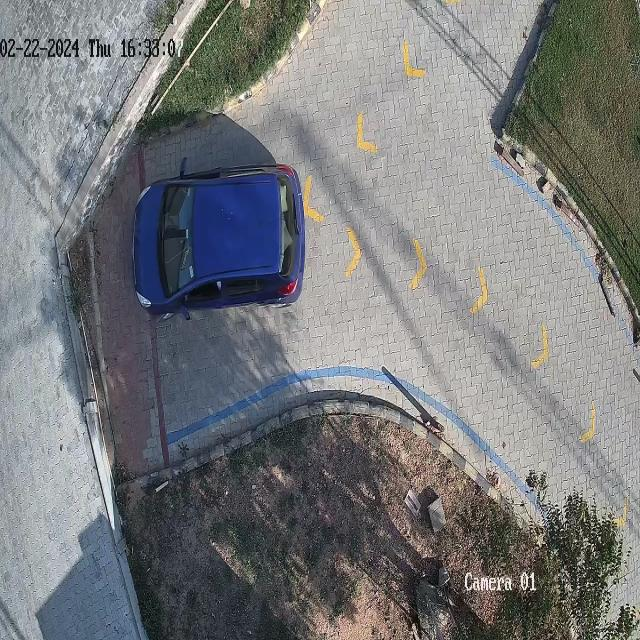car: (132, 164, 305, 318)
